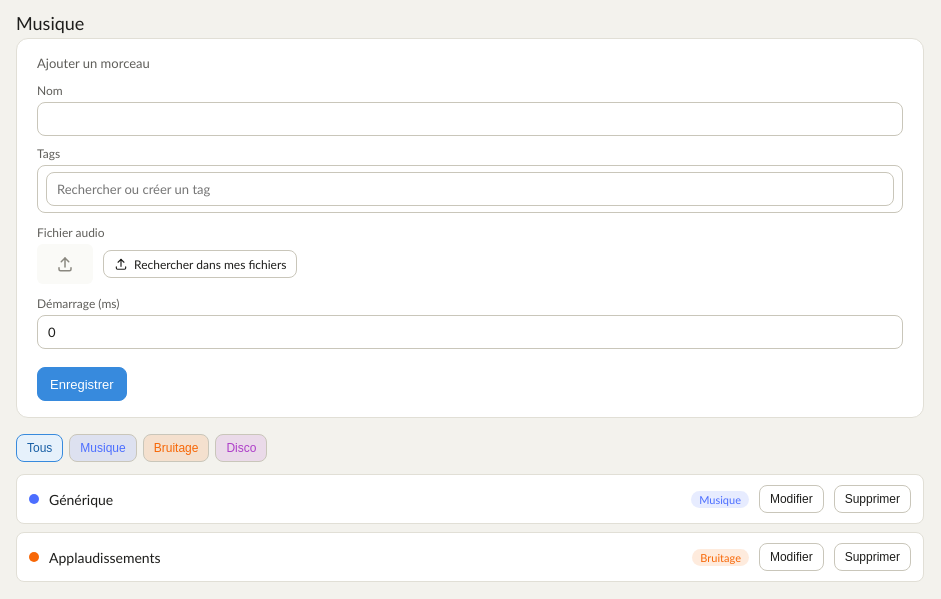
Scenario: MusiqueScreen › filters the track list by tag when a tab is clicked
Expected: the text "Générique" is shown, [49,490,113,508]
Expected: the text "Applaudissements" is shown, [49,548,161,566]
Click the button "Bruitage": (176, 448) [143,434,209,462]
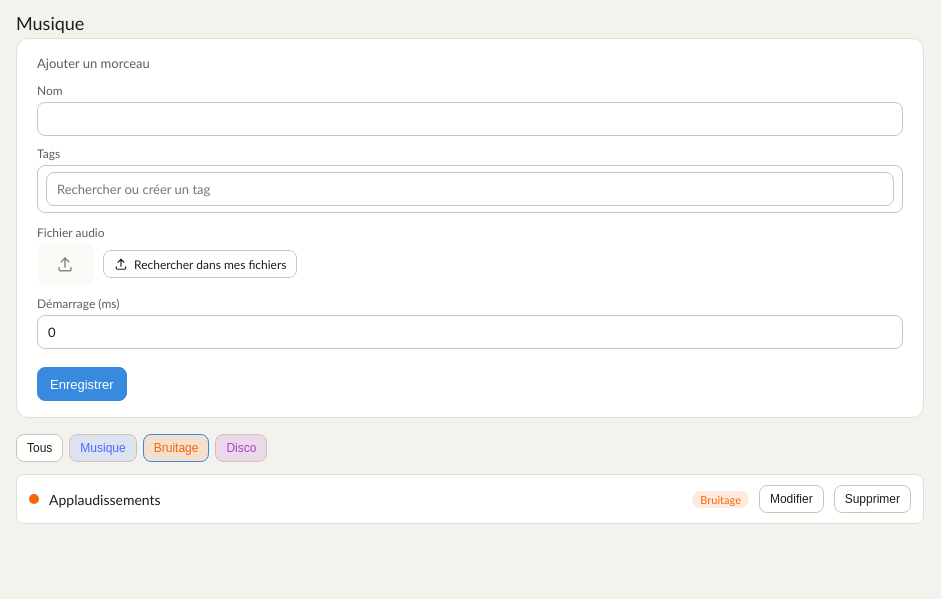
Expected: the text "Applaudissements" is shown, [49,490,161,508]
Now the text "Générique" is gone
